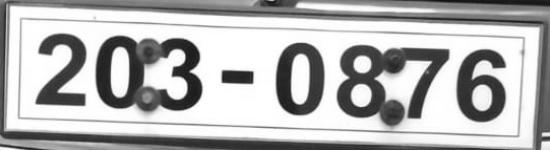-: (214, 60, 264, 99)
0: (270, 34, 328, 120), (93, 32, 148, 112)
2: (29, 28, 92, 114)
3: (152, 32, 209, 113)
6: (452, 42, 512, 129)
7: (395, 41, 452, 124)
8: (330, 36, 394, 125)
